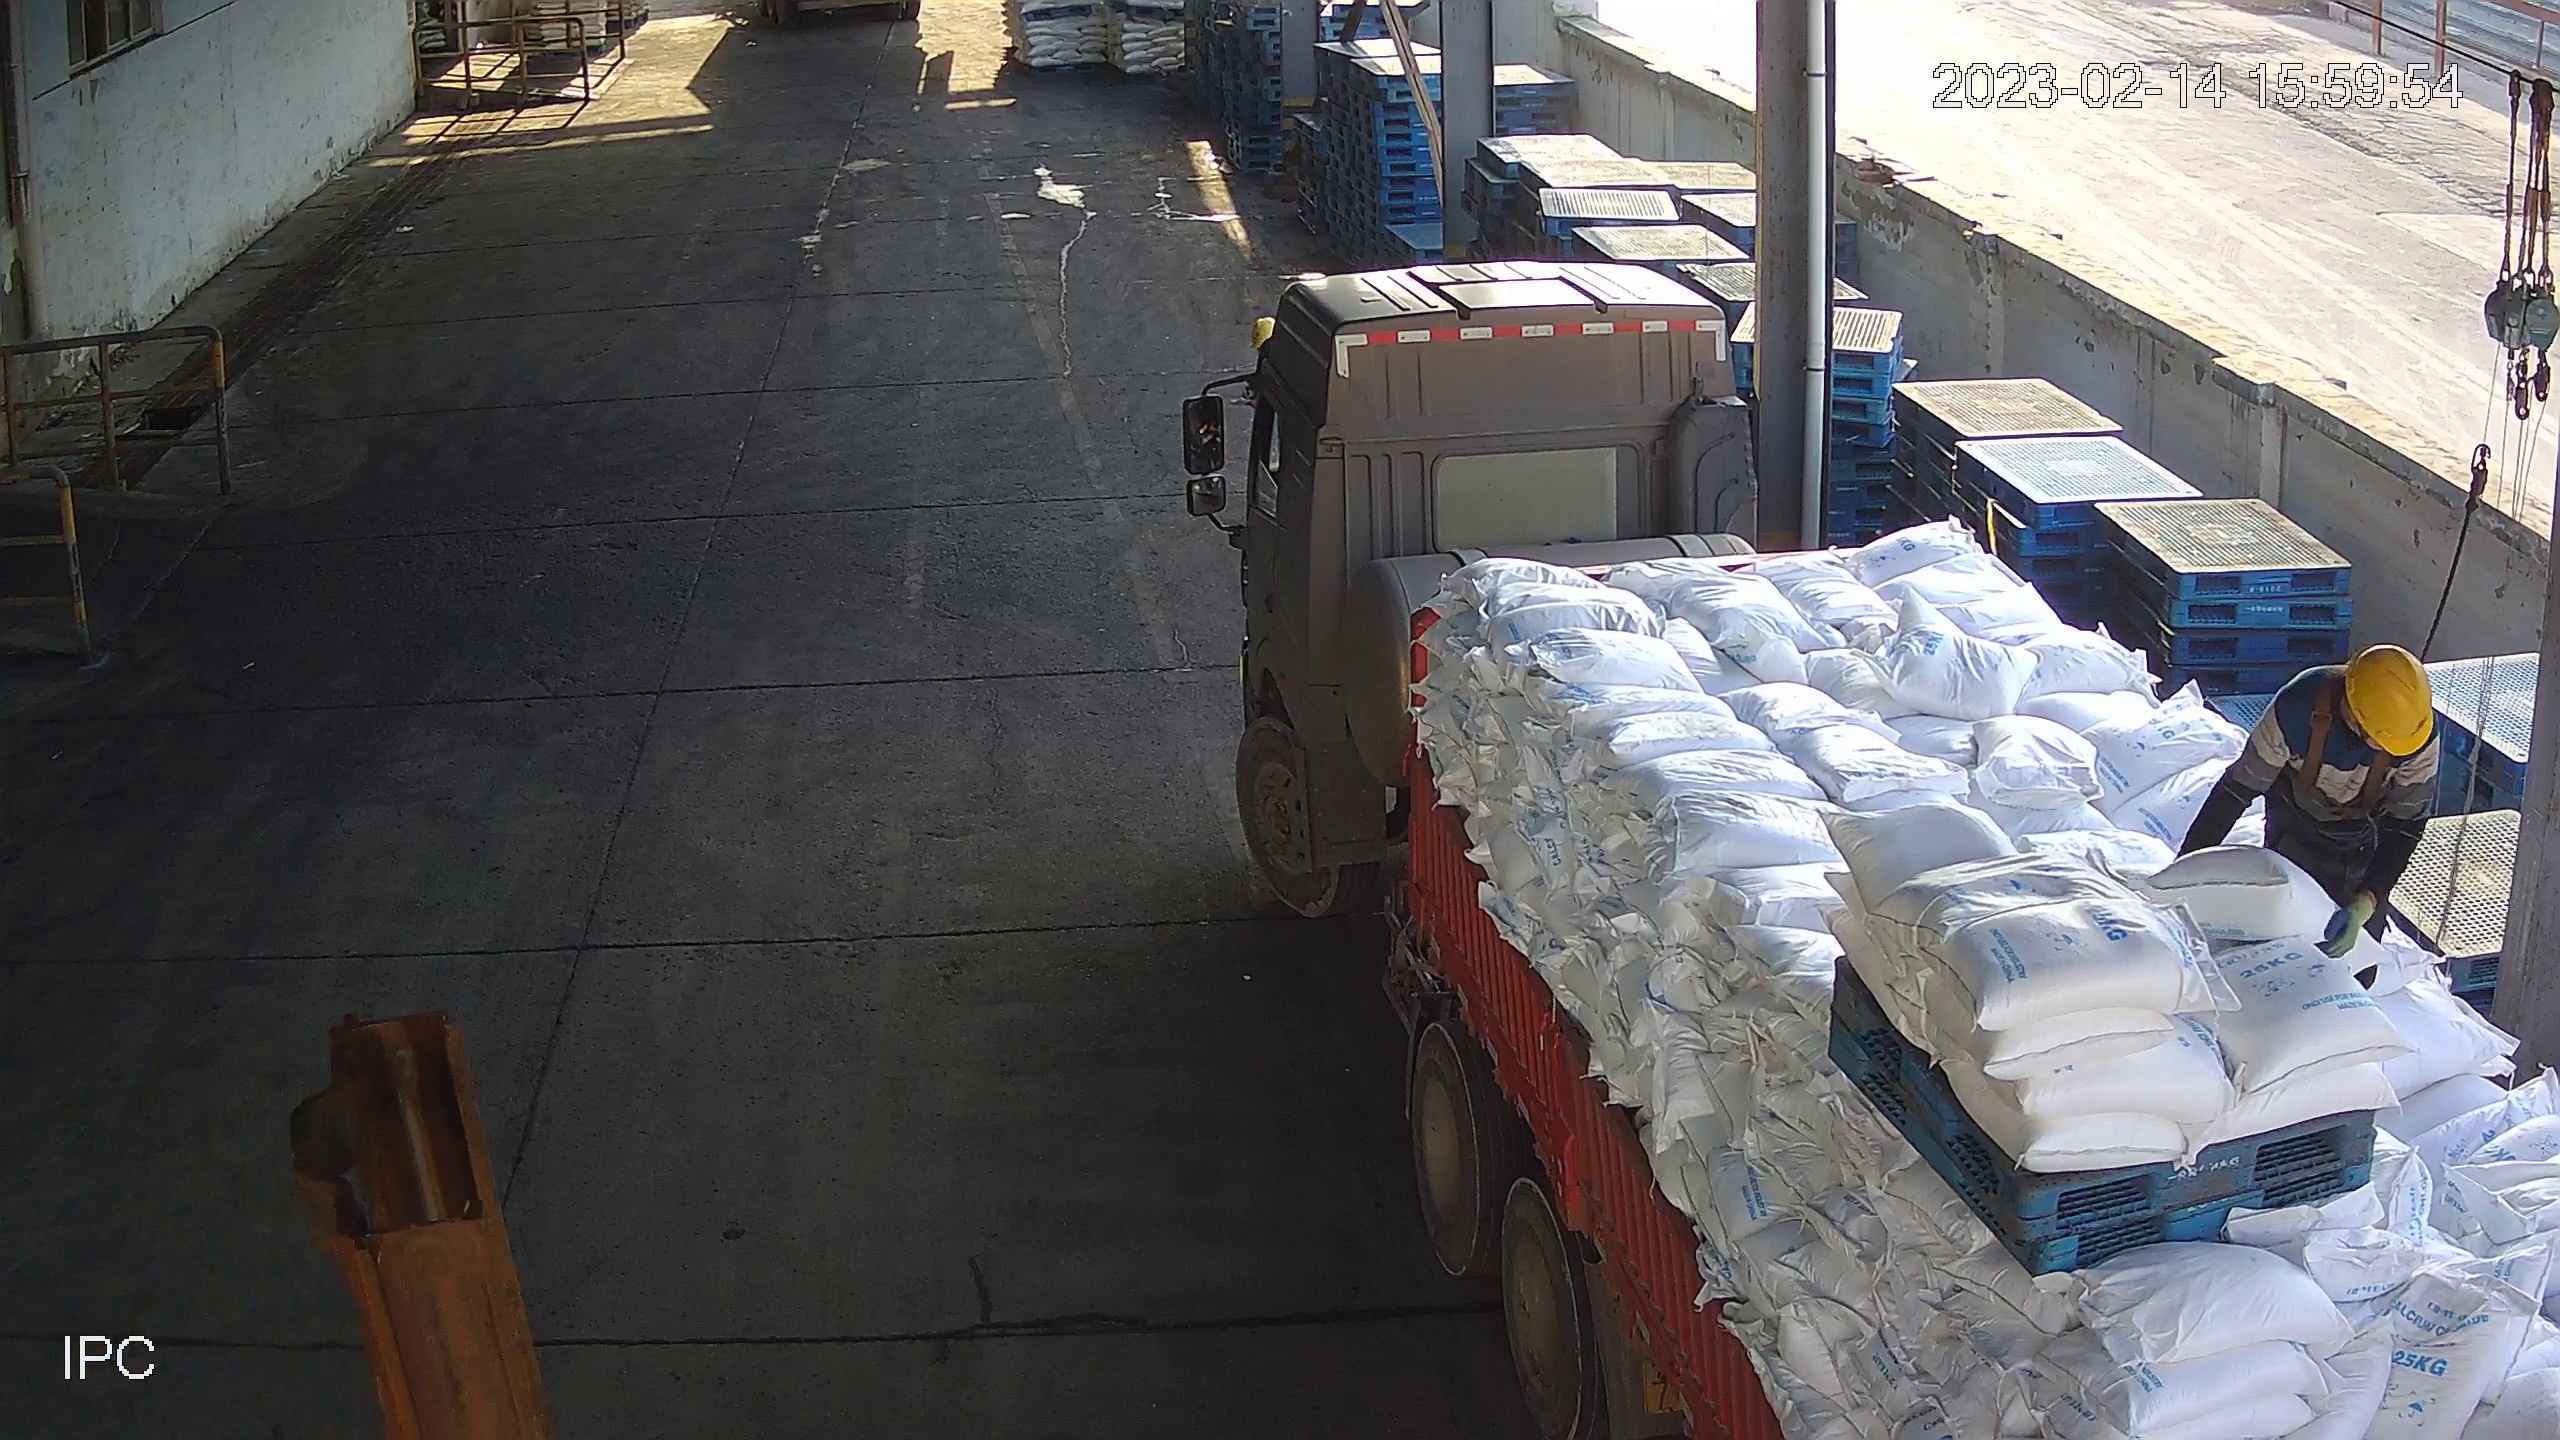belt: (2294, 668, 2391, 824)
head: (2229, 642, 2438, 844)
helmet: (2346, 643, 2435, 757)
people: (2170, 642, 2442, 990)
truck: (1178, 250, 2560, 1440)
